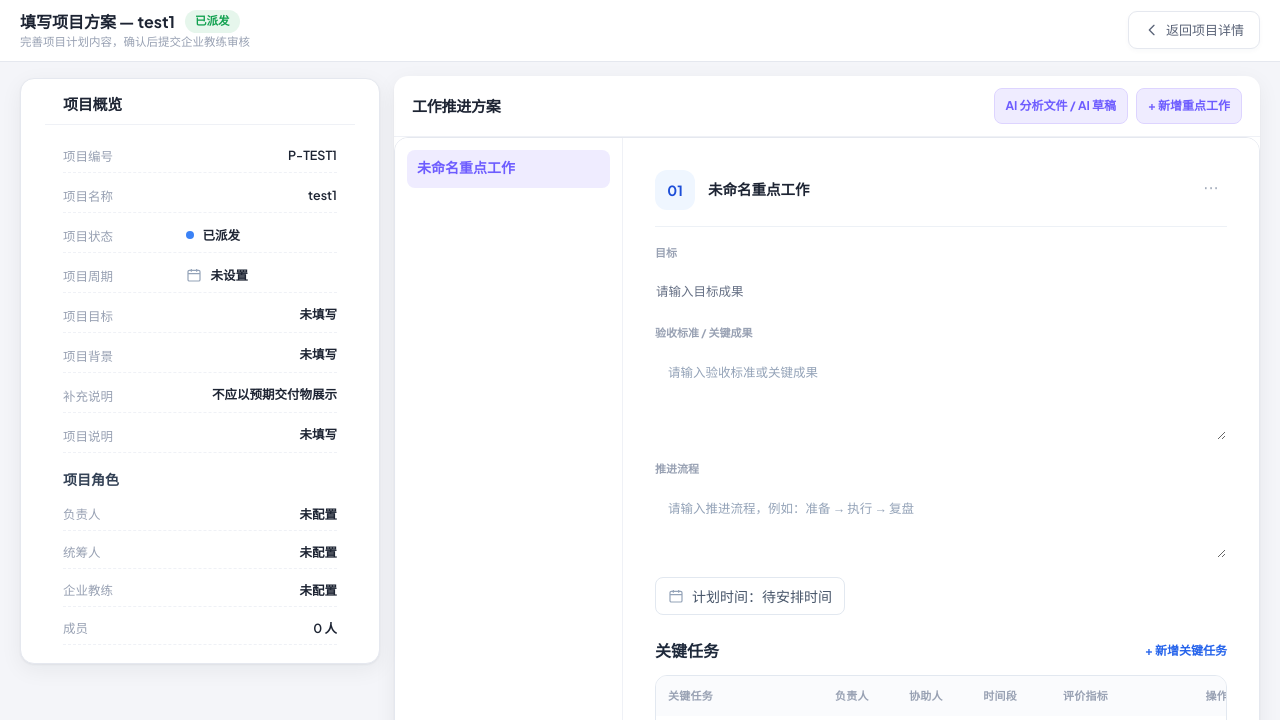
it: owner submit approved B layout › renders the project overview and workstream detail without redundant metadata
Check: the heading "项目概览" is shown, box left=45, top=79, right=355, bottom=125
Check: the text "P-TEST1" is shown, box left=288, top=147, right=337, bottom=163
Click the button with aria-label "编辑重点工作名称" at x=759, y=189, box left=707, top=179, right=1183, bottom=201
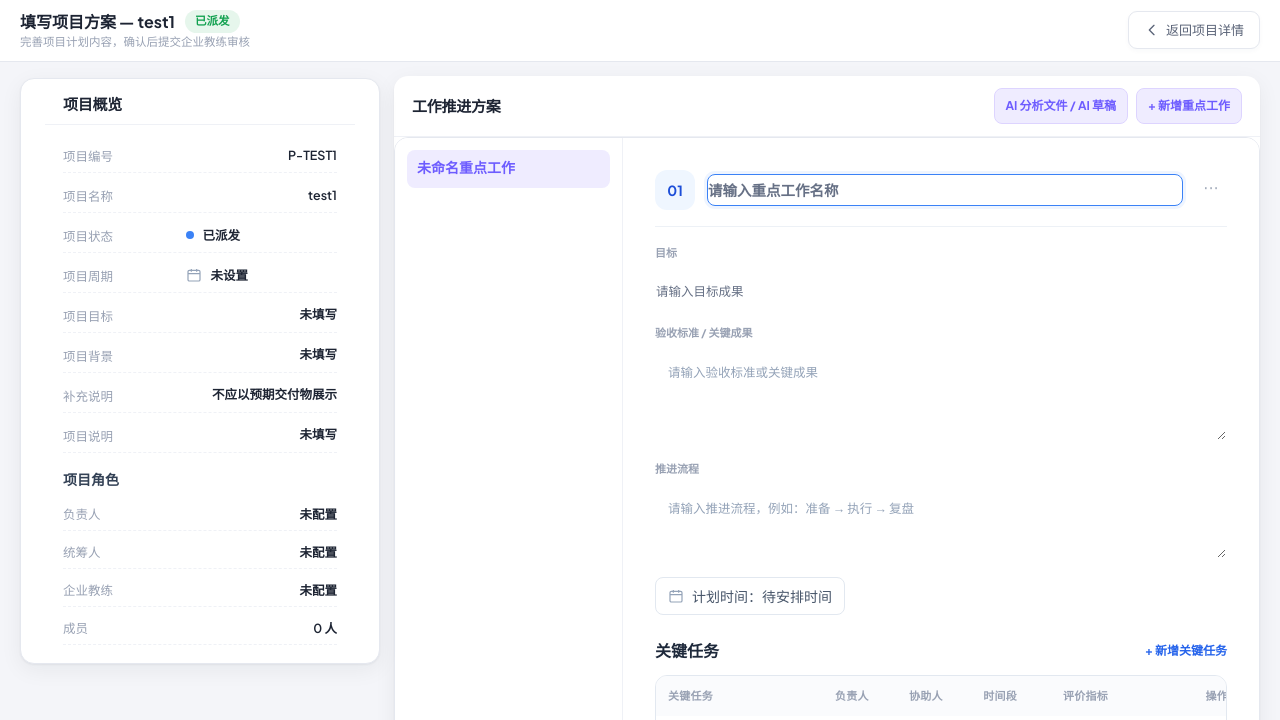
Check: the column heading "评价指标" is shown, box left=1055, top=676, right=1198, bottom=716
Check: the field with placeholder "请输入重点工作名称" is shown, box left=707, top=174, right=1183, bottom=206
